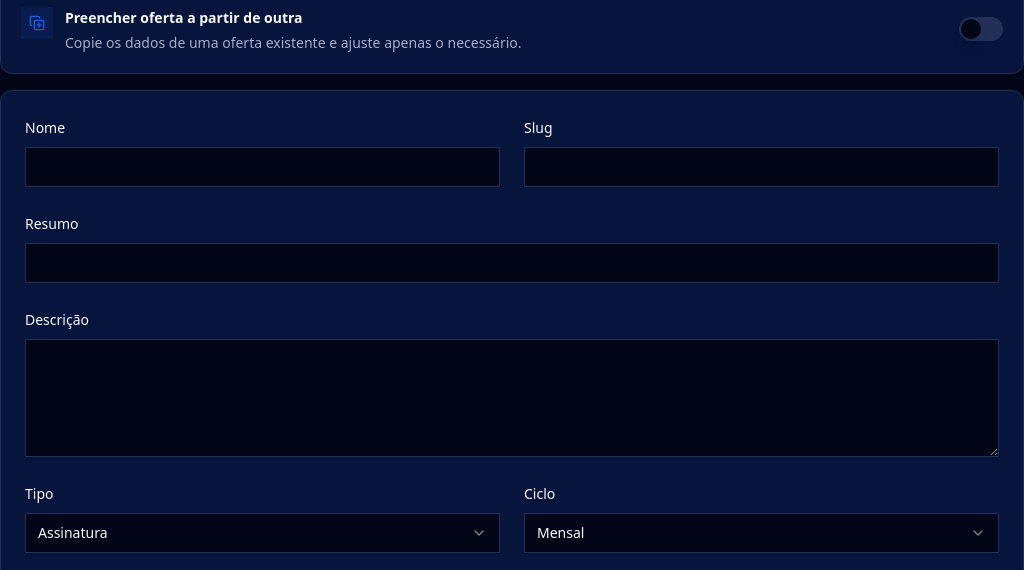
Scenario: OfferForm › preenche uma nova oferta a partir de outra oferta selecionada
Later steps or results of the test are not shown.
What coordinates should you click on to do the following:
click the switch named "Preencher oferta a partir de outra"
I would click on:
 (981, 29)
Its box is x1=959 y1=17 x2=1003 y2=41.
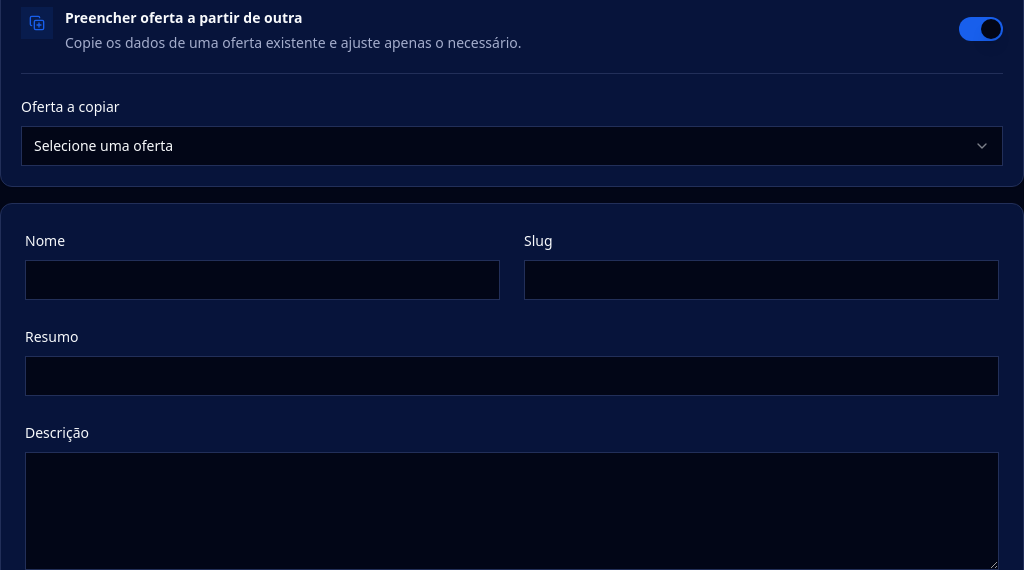
Check: the dropdown named "Oferta a copiar" is shown
What coordinates should you click on to do the following:
click the dropdown named "Oferta a copiar"
I would click on:
 (104, 146)
Its box is x1=21 y1=126 x2=1003 y2=166.
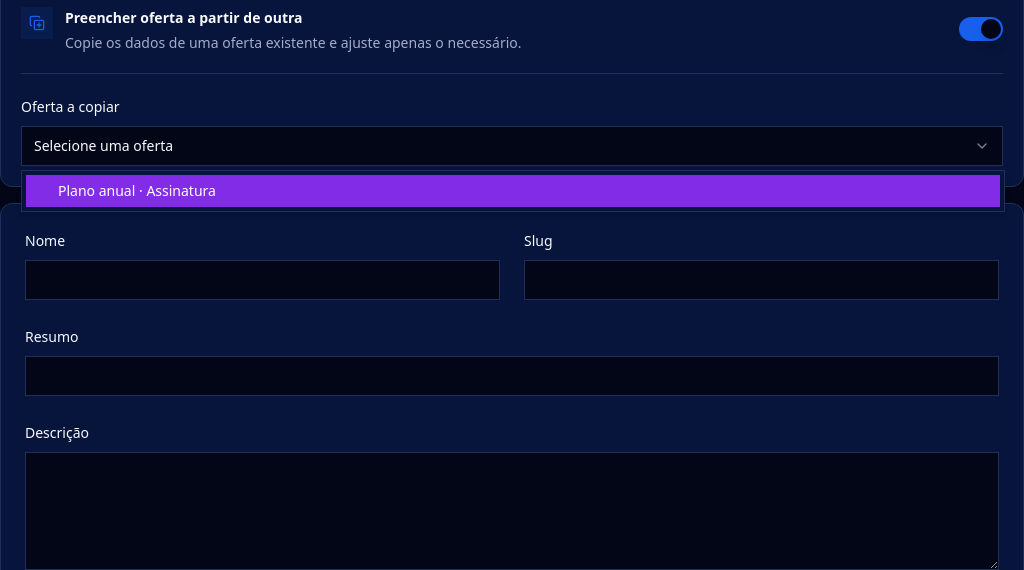
What coordinates should you click on to do the following:
click the option "Plano anual · Assinatura"
I would click on:
 (97, 190)
Its box is x1=26 y1=175 x2=1000 y2=207.
(page scrolled)
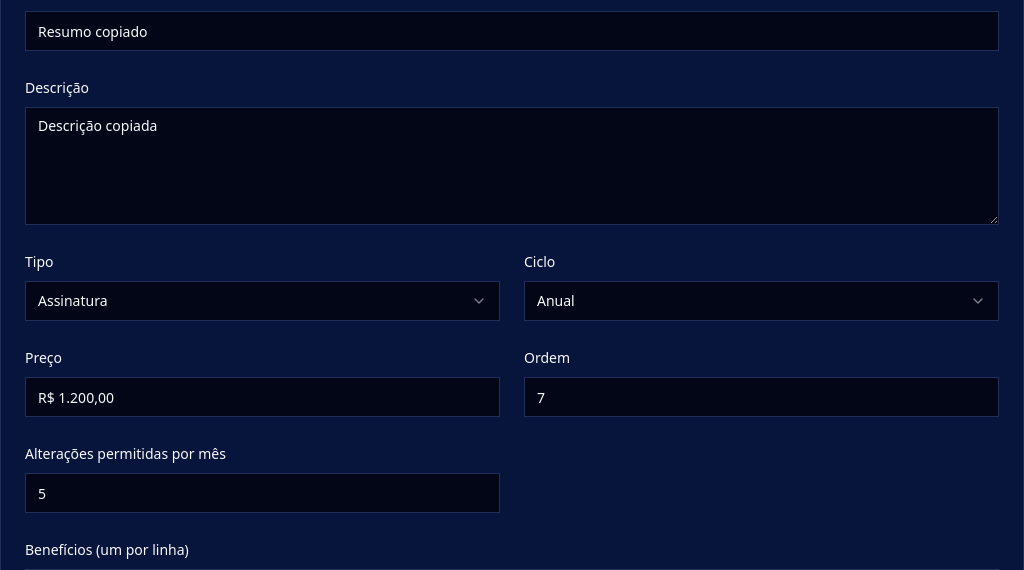
Check: the field labelled "Resumo" holds "Resumo copiado", box x1=25 y1=11 x2=999 y2=51
Check: the text box labelled "Descrição" holds "Descrição copiada", box x1=25 y1=107 x2=999 y2=225
Check: the number field labelled "Ordem" holds "7", box x1=524 y1=377 x2=999 y2=417
